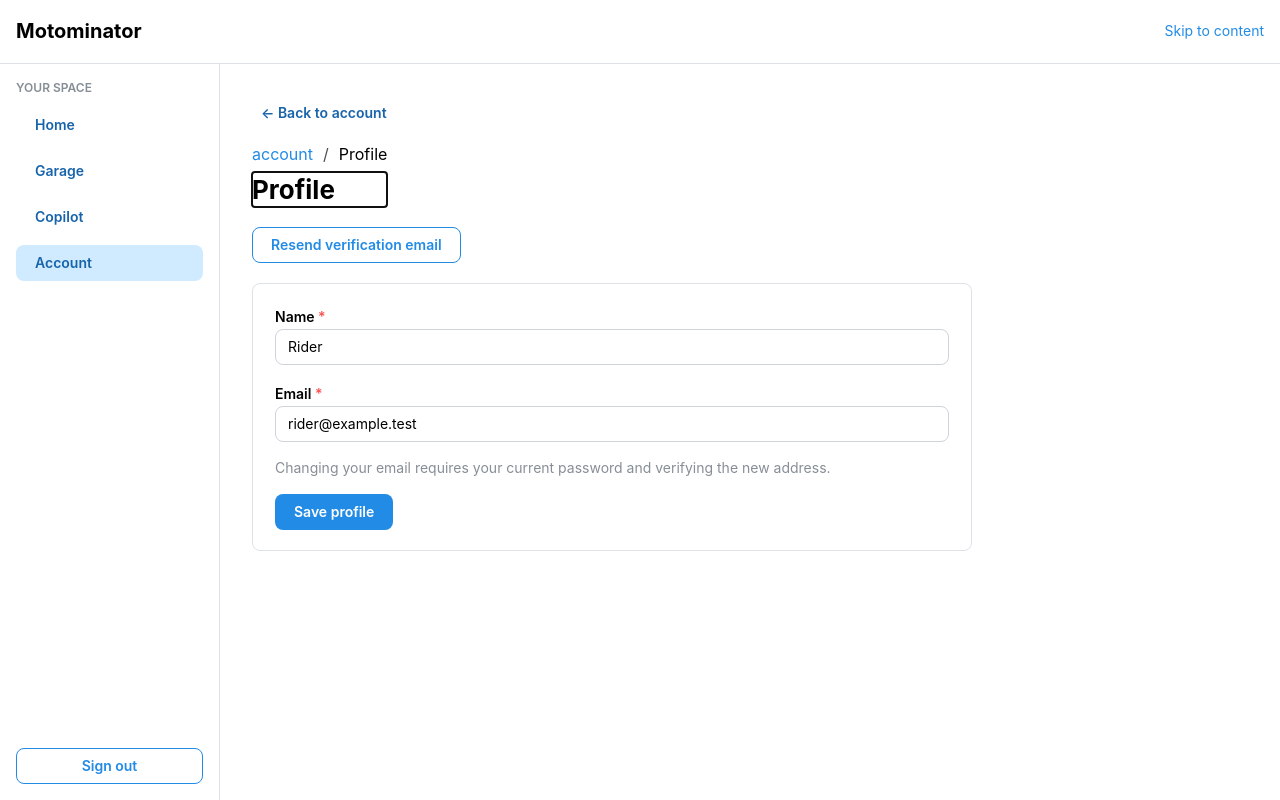
ignores an obsolete account refresh after expiry
Step 1. Click the button "Save profile" → click(334, 512), box [275,494,393,530]
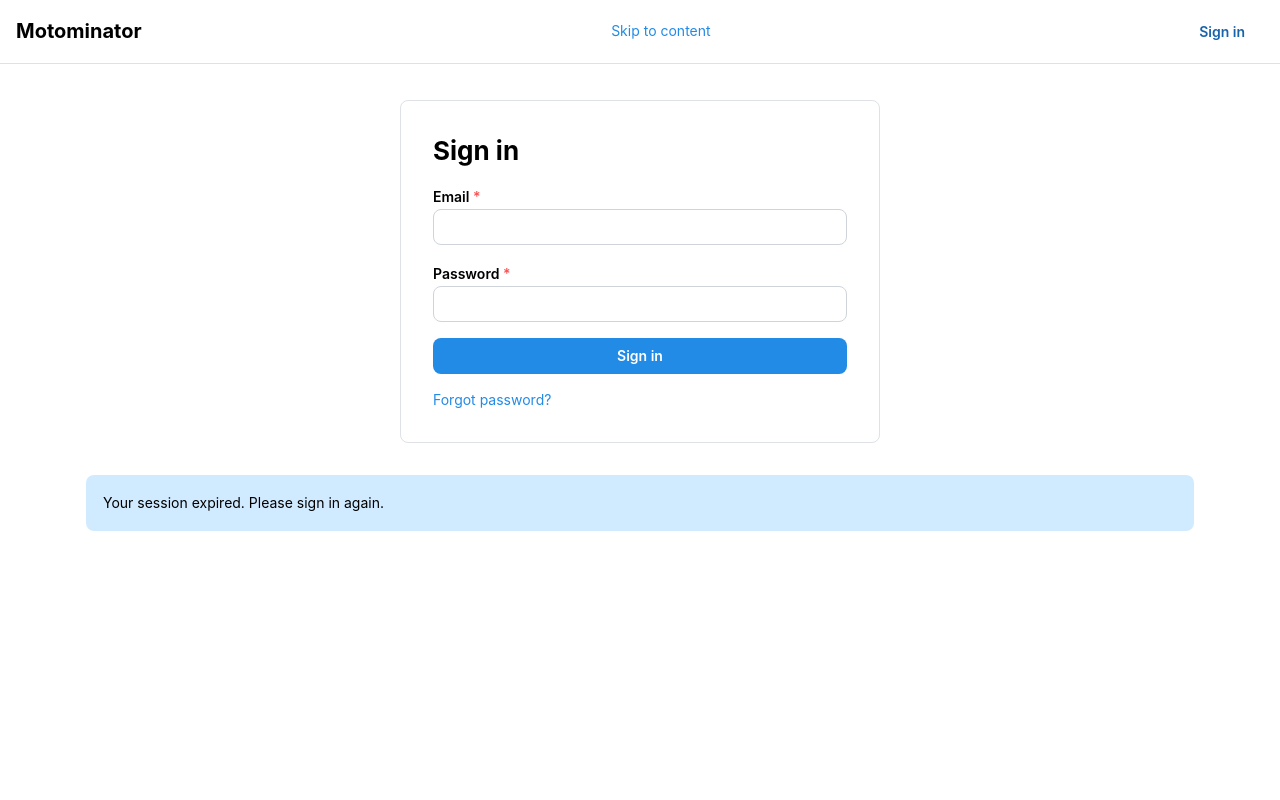
Expected: the heading "Sign in" is shown, [433,135,519,166]
Expected: the button "Save profile" is gone
